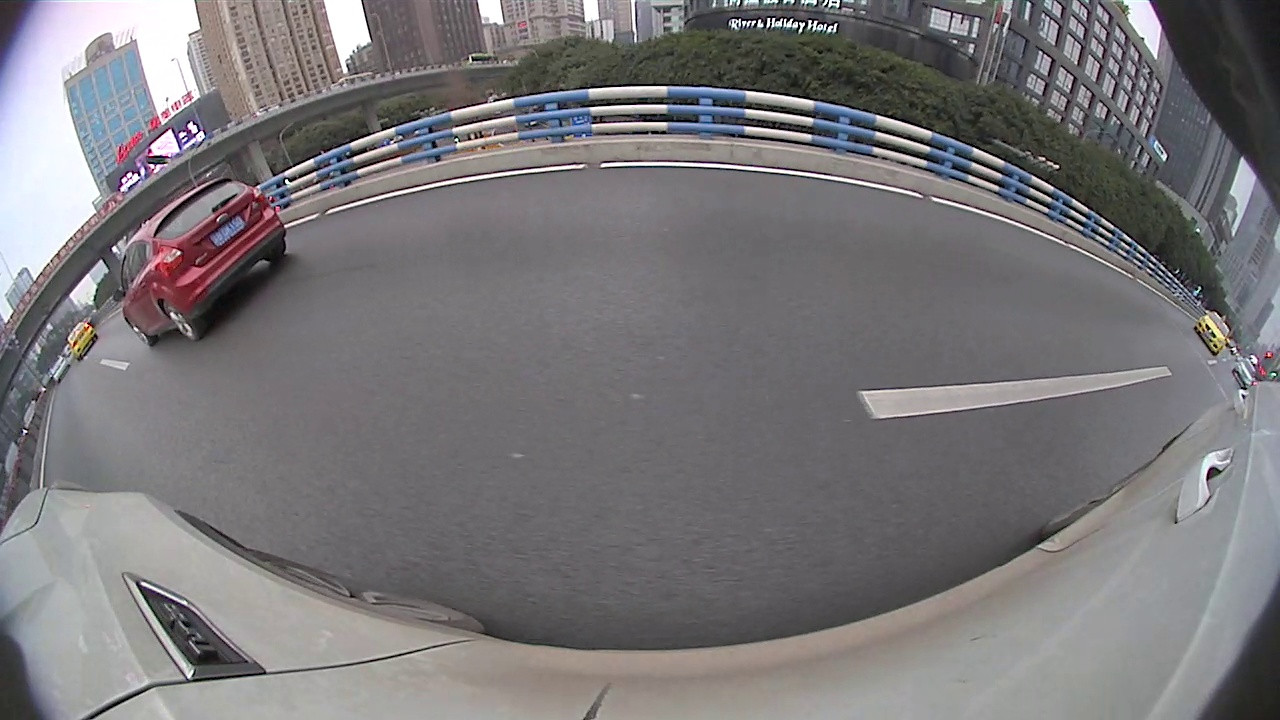car: (1, 132, 381, 509), (808, 129, 1066, 286), (606, 127, 752, 235), (1180, 313, 1278, 381), (476, 153, 571, 218), (1216, 336, 1278, 428), (754, 147, 846, 208), (553, 162, 588, 196), (583, 162, 603, 185)
front: (284, 248, 364, 346), (1200, 343, 1232, 378), (809, 185, 836, 225)
person: (1176, 260, 1191, 321), (1082, 219, 1097, 273), (1115, 237, 1125, 287), (1126, 239, 1135, 291), (1227, 293, 1238, 323)
rear: (906, 210, 956, 272), (780, 176, 790, 203), (547, 181, 557, 207)
